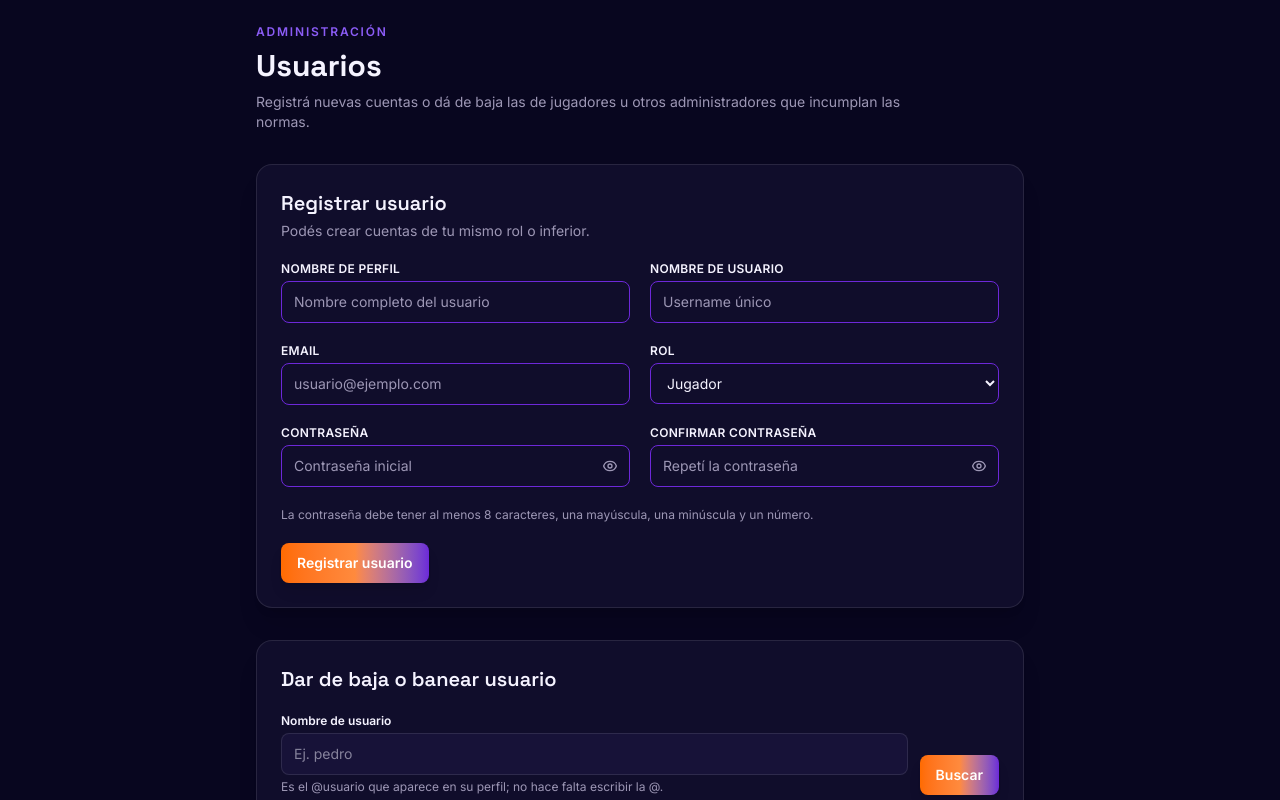
Test: UsuariosPage - US 50 Eliminar cuenta de usuario › avisa si el usuario ya fue dado de baja al confirmar
This screenshot has width=1280, height=800.
Type "pedro" into the field labelled "Nombre de usuario". click: (594, 754)
box: [281,733,908,775]
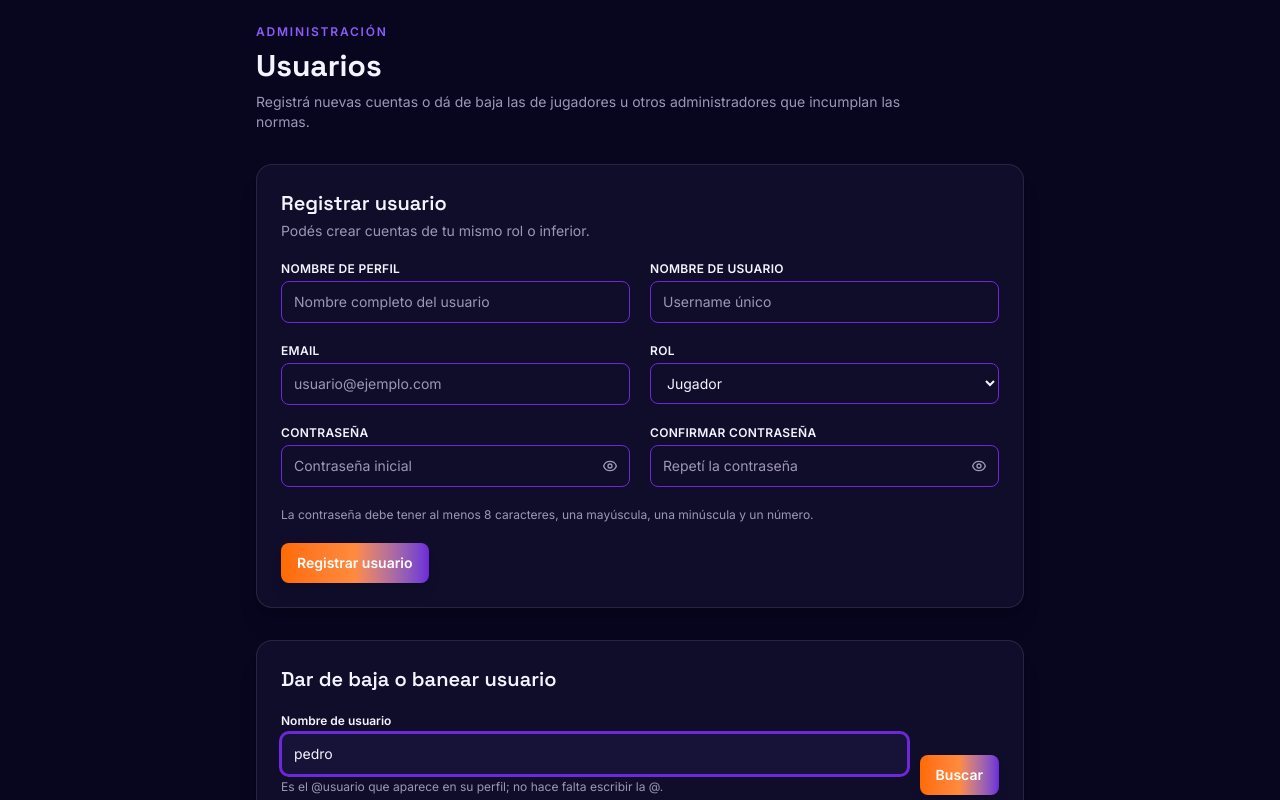
Click the button "Buscar". click: (959, 775)
box: [920,755,999,795]
(page scrolled)
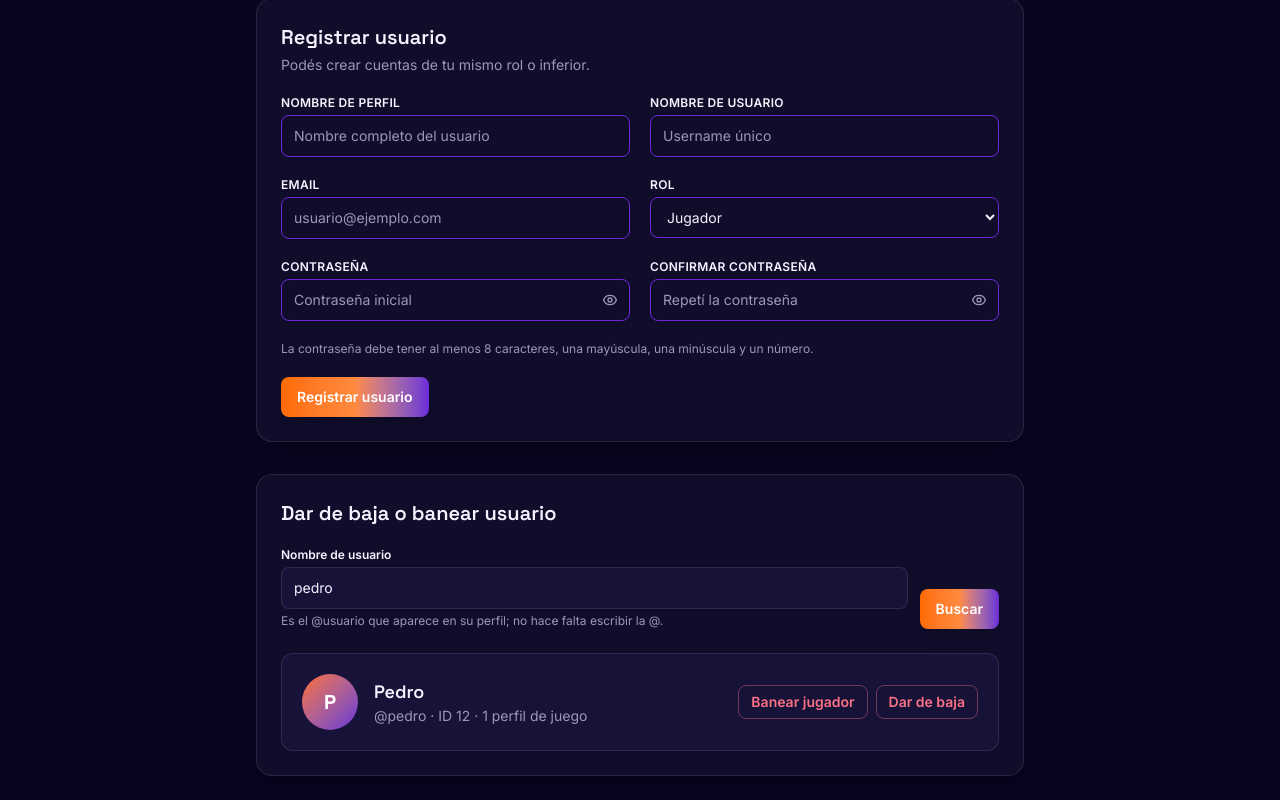
Click the button "Dar de baja". click: (927, 702)
box: [876,685,978,719]
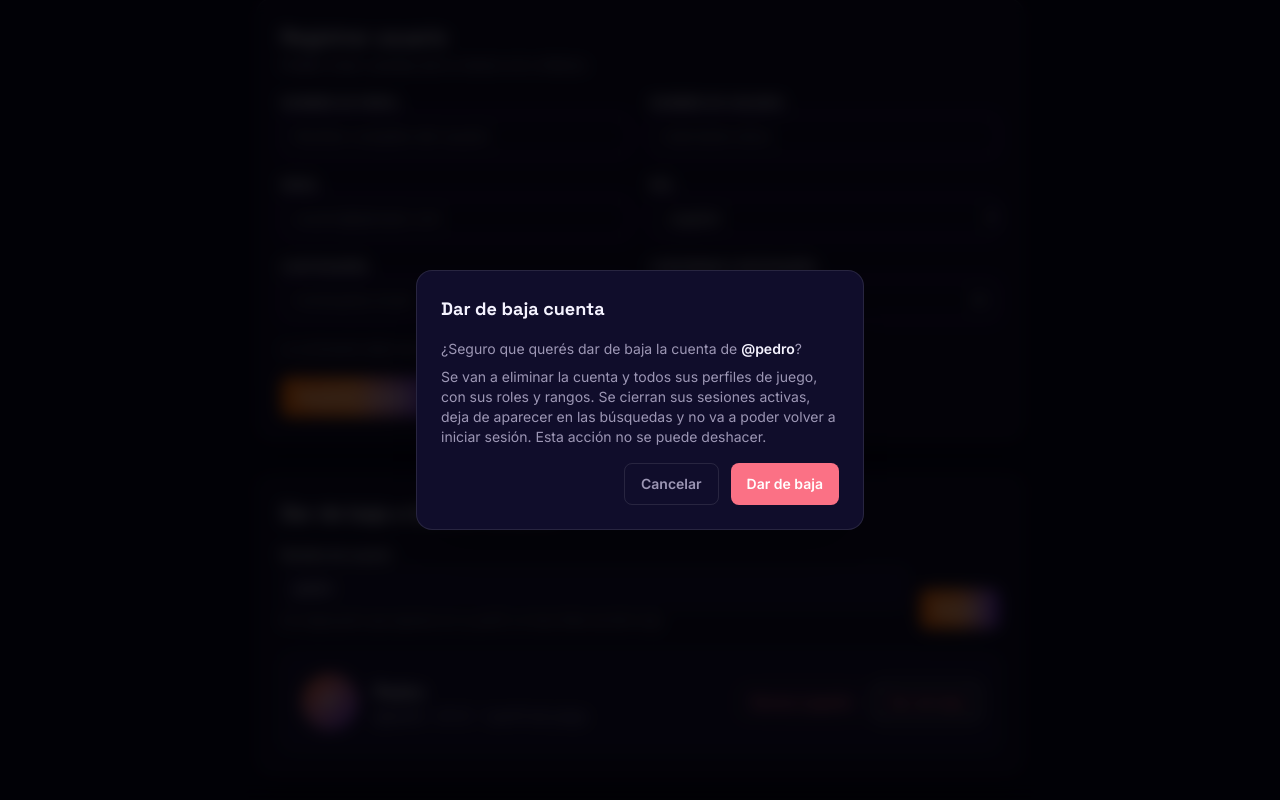
Click the button "Dar de baja". click: (785, 484)
box: [731,463,839,505]
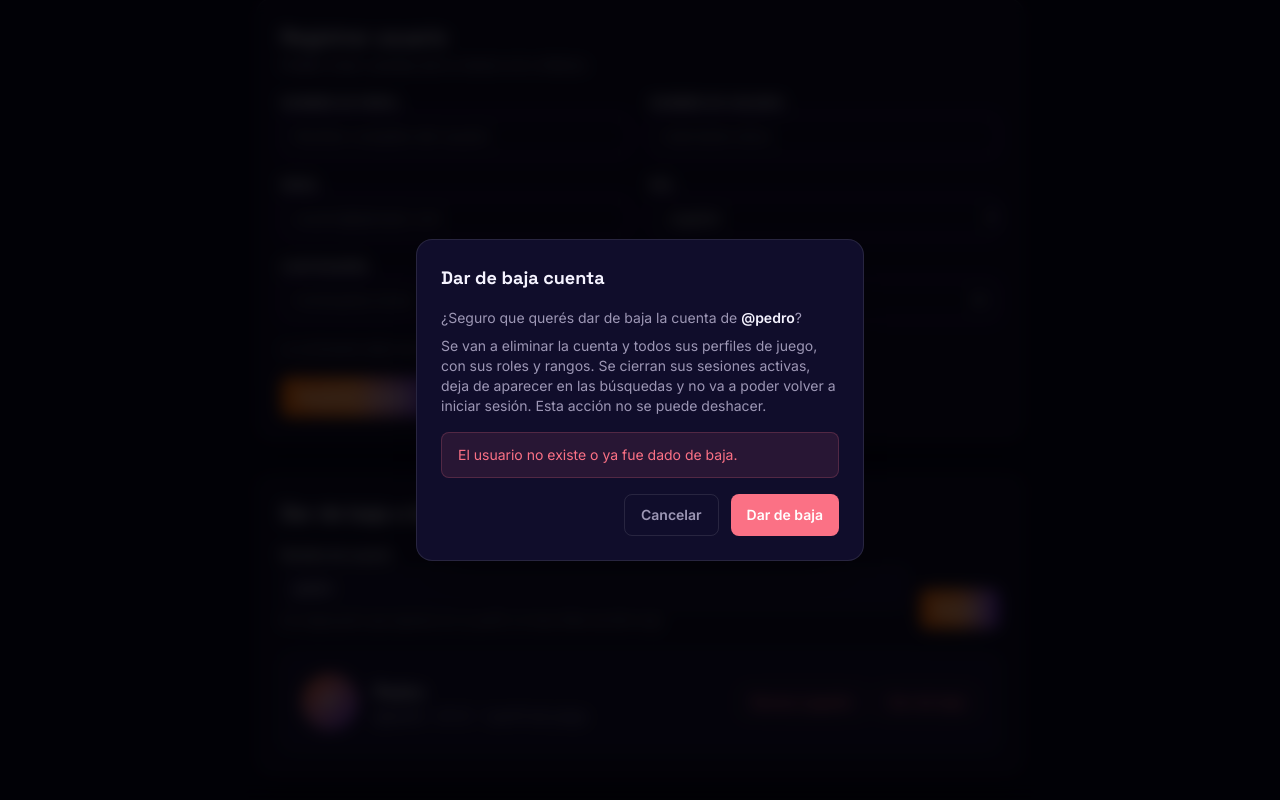
Now the text "El usuario no existe o ya fue dado de baja." is shown, box [458,446,738,463]
